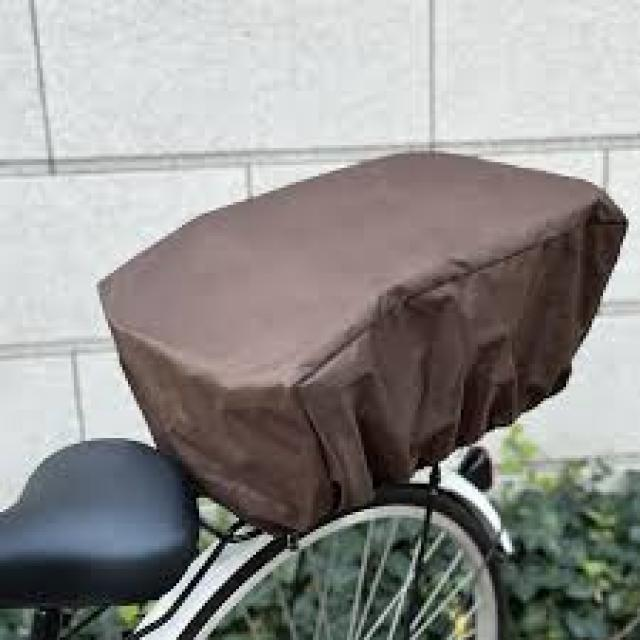basket: (95, 150, 630, 529)
